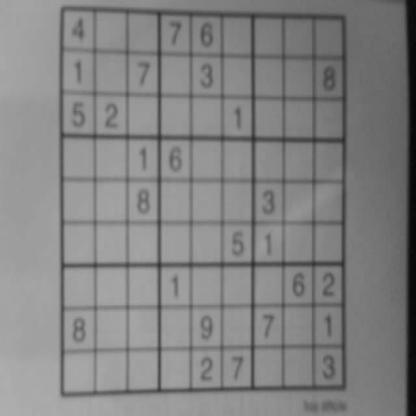sudoku: (56, 3, 352, 400)
